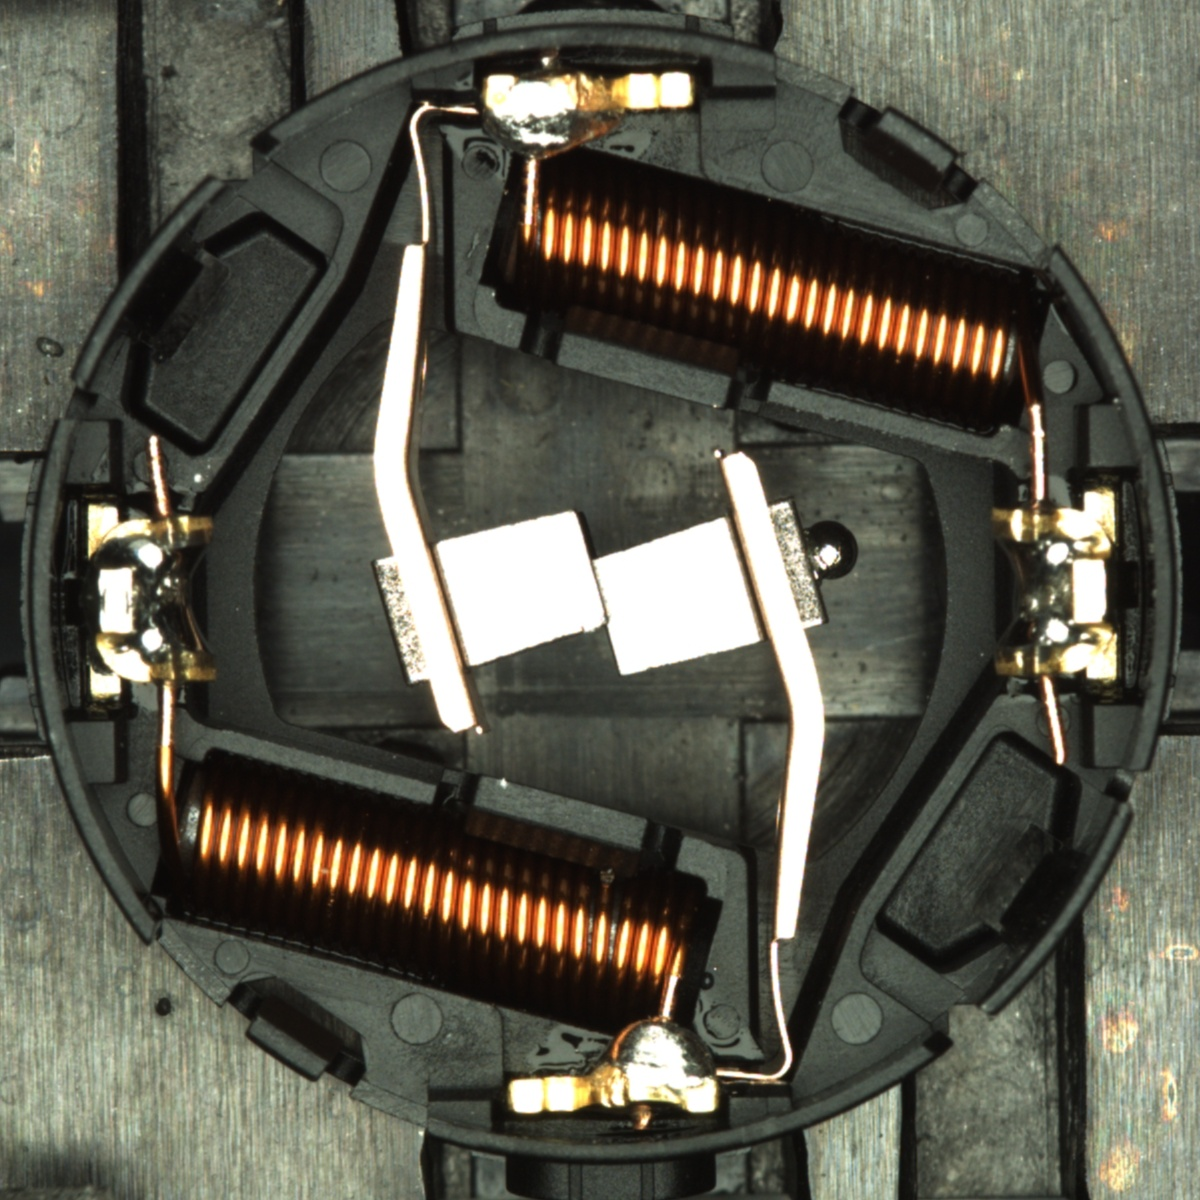1: (258, 55, 487, 279), (716, 953, 945, 1177)
2: (716, 55, 945, 279), (258, 953, 487, 1177)
3: (29, 279, 258, 503), (945, 729, 1175, 953)
4: (258, 279, 487, 503), (716, 729, 945, 953)
5: (487, 167, 716, 391), (487, 841, 716, 1065)
6: (716, 279, 945, 503), (258, 729, 487, 953)
7: (945, 279, 1175, 503), (29, 729, 258, 953)
chau_dien: (82, 498, 221, 700), (984, 489, 1124, 688)
hat_chi: (804, 519, 859, 580)
tay_choi: (507, 1014, 721, 1115), (481, 67, 698, 165)
thanh_de: (954, 788, 1141, 1031), (58, 164, 245, 405)
